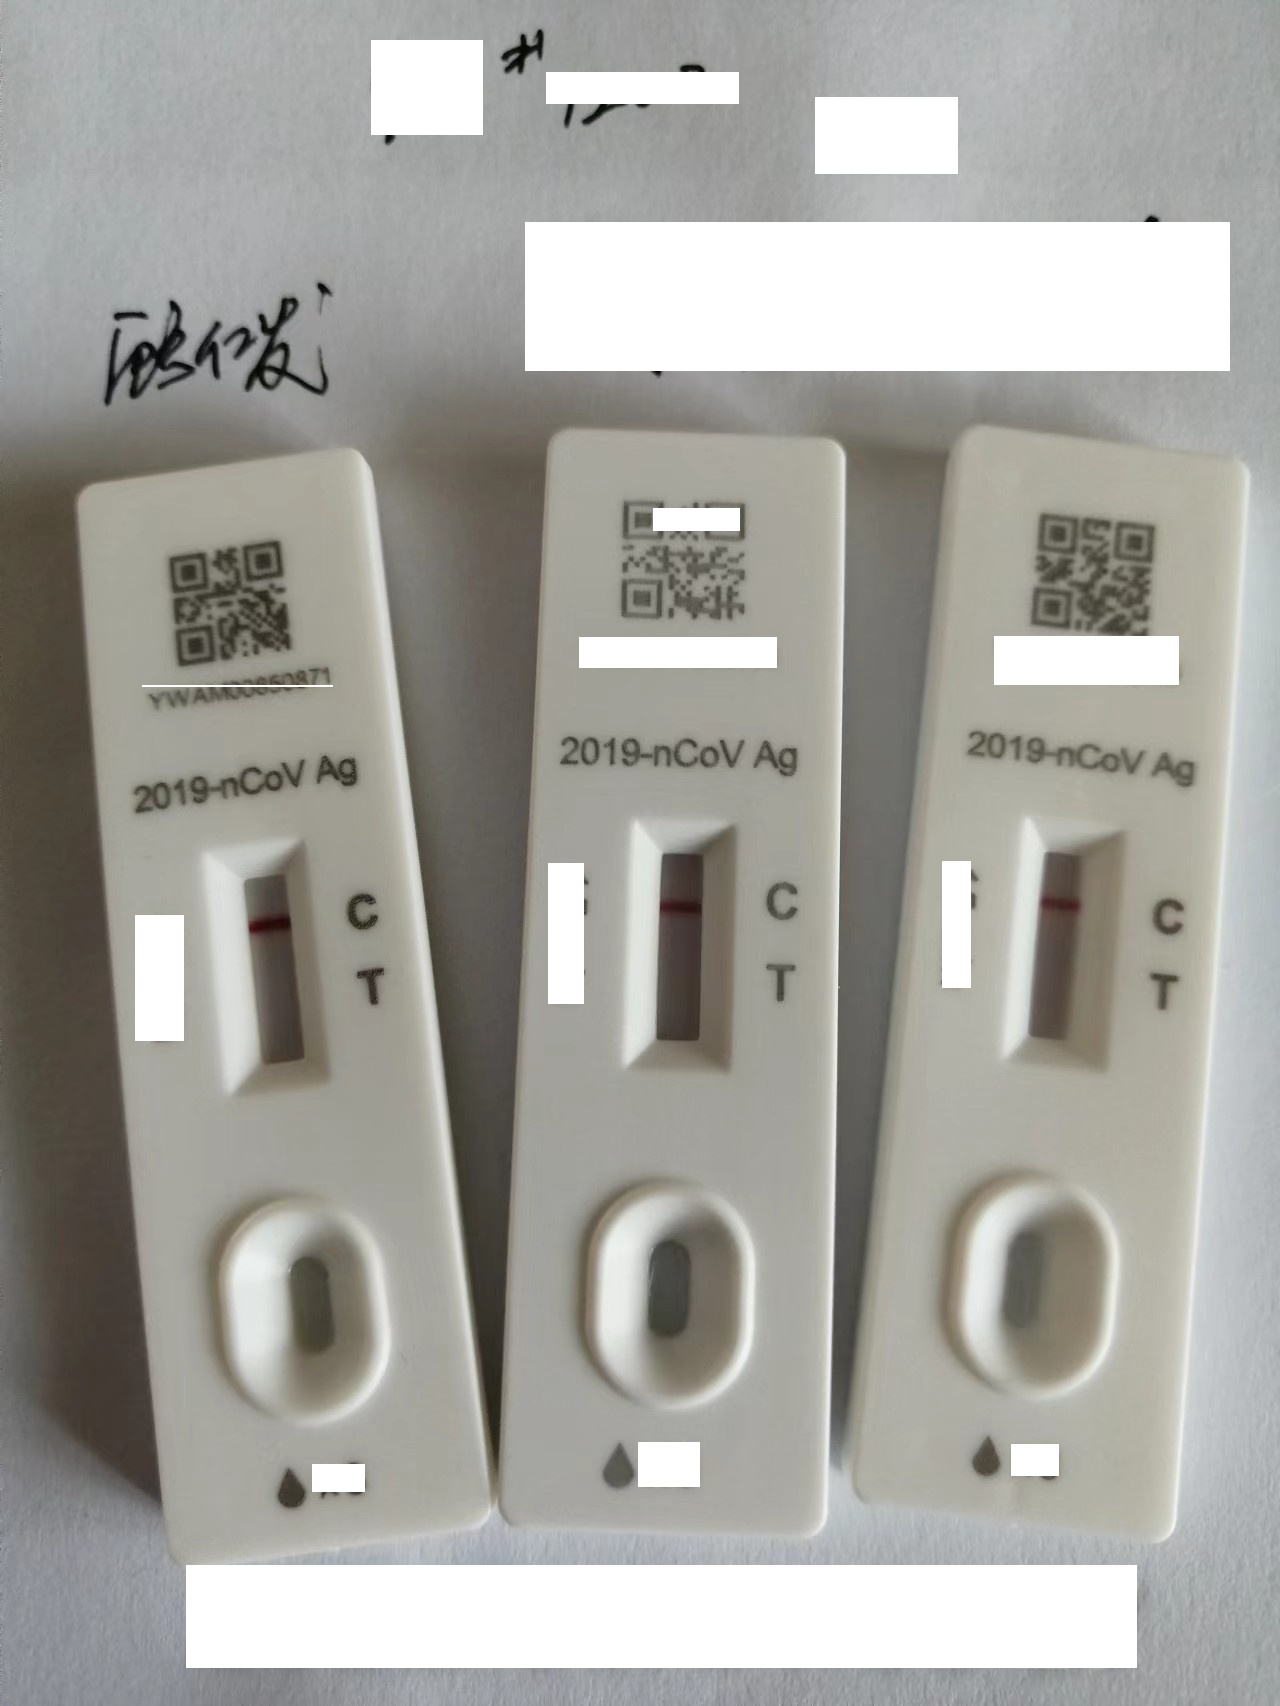negative: (1014, 815, 1123, 1075), (216, 843, 325, 1096), (640, 821, 730, 1071)
positive: (643, 831, 727, 1053)
